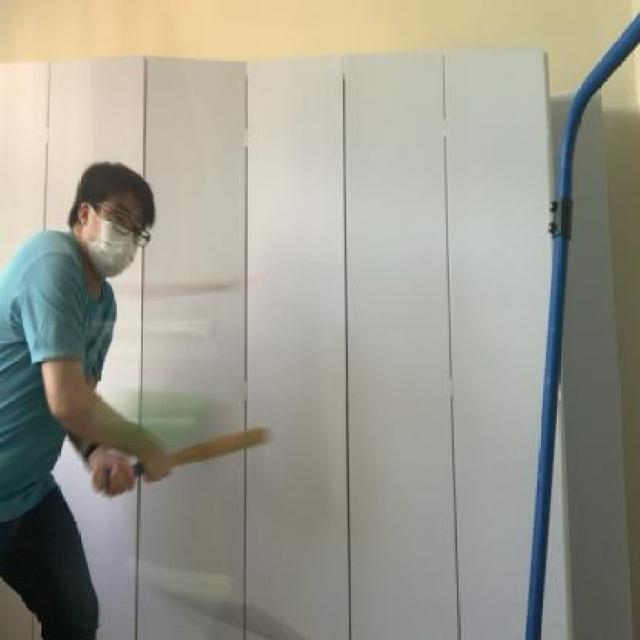baseball: (87, 372, 245, 482)
